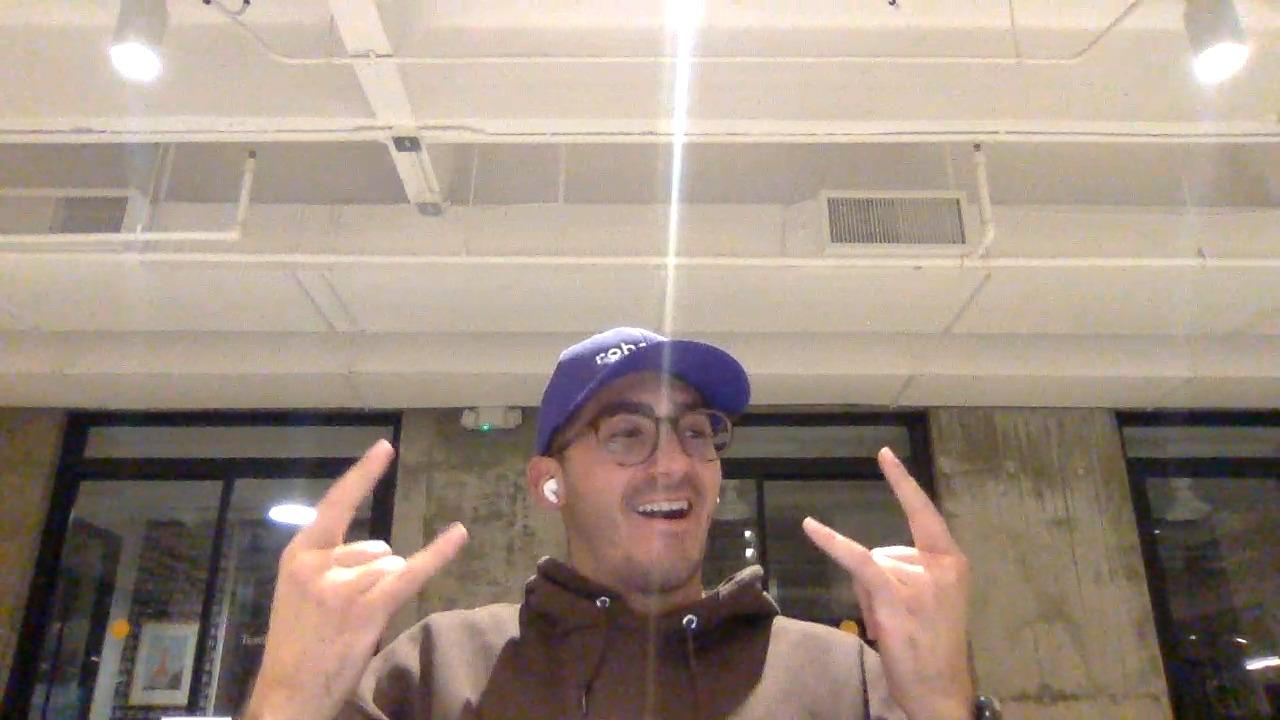face: (556, 390, 723, 593)
